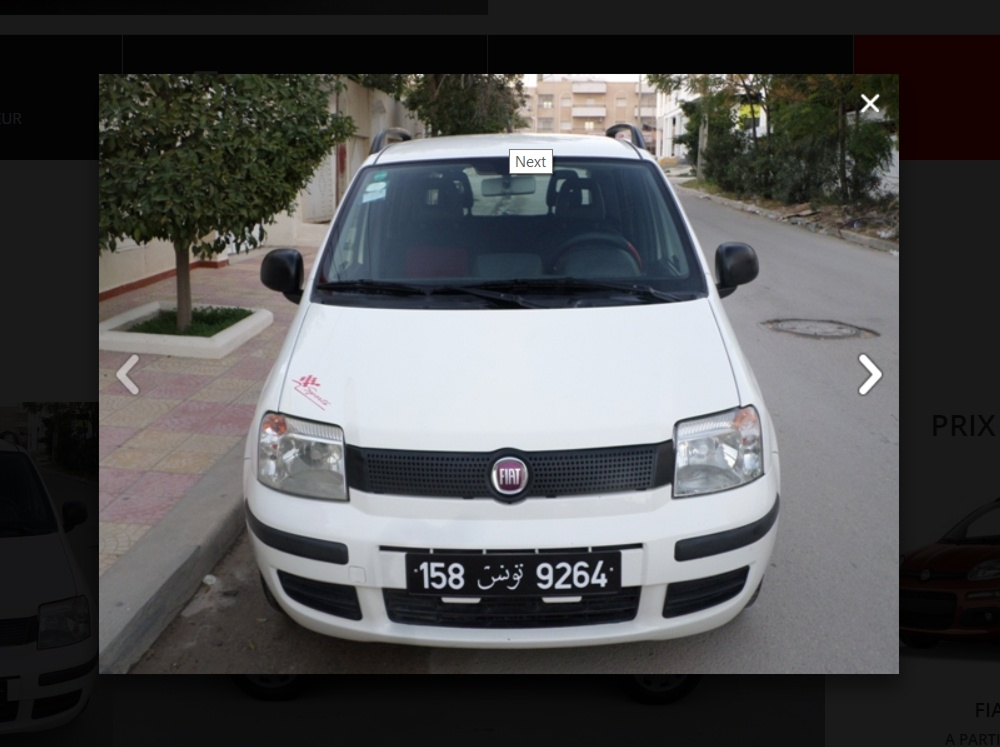LP: (404, 549, 627, 599)
